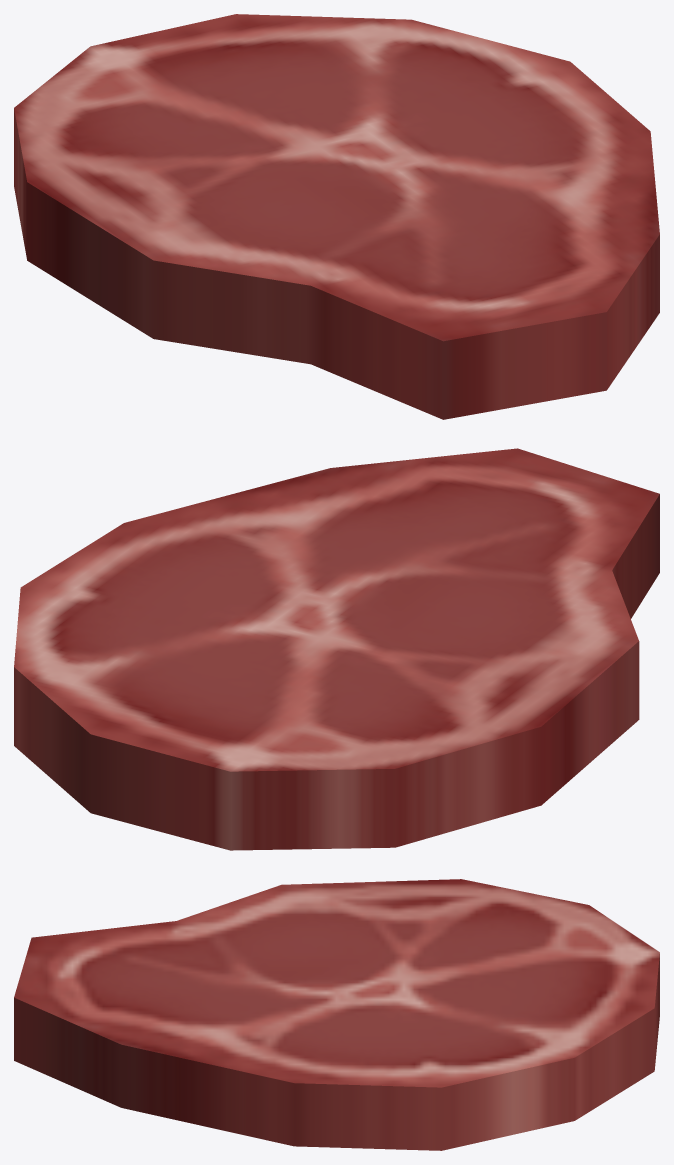
The model's file is kaorou_meat01.fbx.
The picture shows the model from 3 angles, top to bottom: view 1: azimuth 30°, elevation 25°; view 2: azimuth 150°, elevation 25°; view 3: azimuth 270°, elevation 25°; orthographic projection. The views are drawn at different scales.
Parts seen in each view (by area): view 1: kaorou_meat01; view 2: kaorou_meat01; view 3: kaorou_meat01.
Part boxes in pixels (<box>): kaorou_meat01: <box>14,14,659,419</box>; kaorou_meat01: <box>14,448,659,850</box>; kaorou_meat01: <box>14,879,659,1150</box>.
Bounding box in the file's own units: 37.75 × 5.34 × 49.43.
